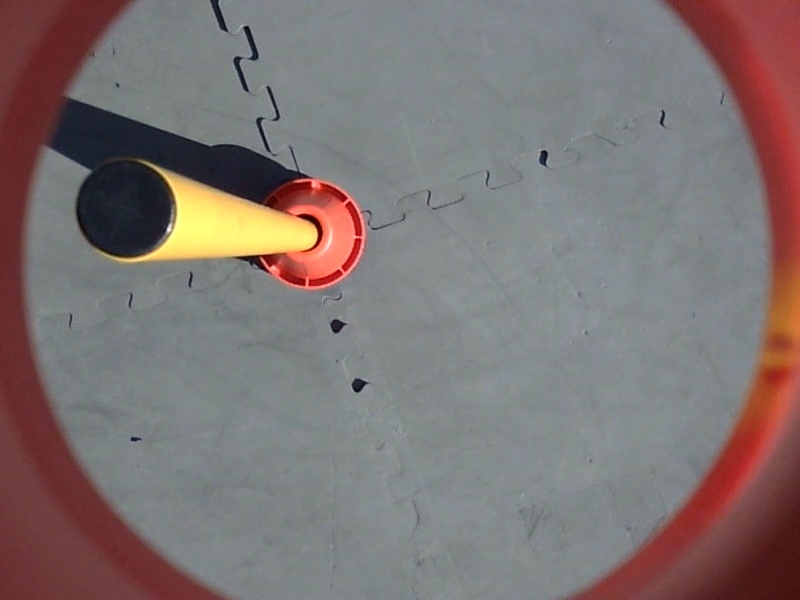tip: (67, 154, 189, 272)
